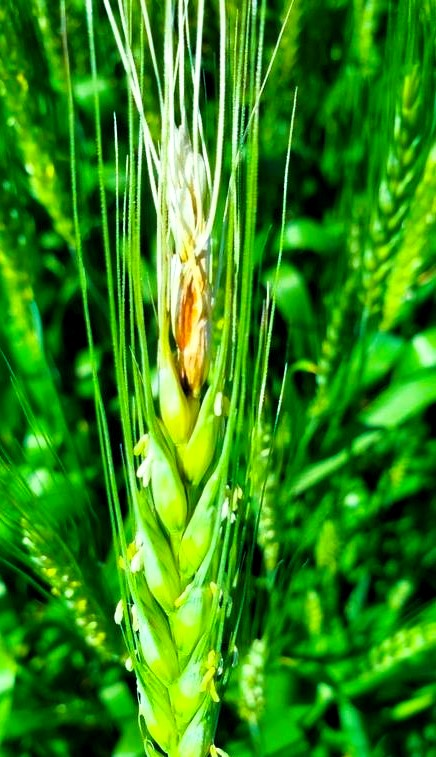Wheat scab: (114, 117, 248, 751)
